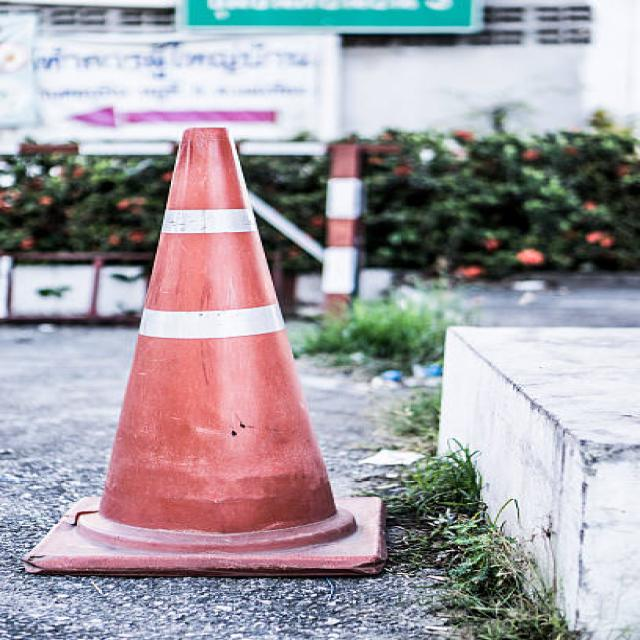Traffic Cone: (8, 89, 436, 589)
